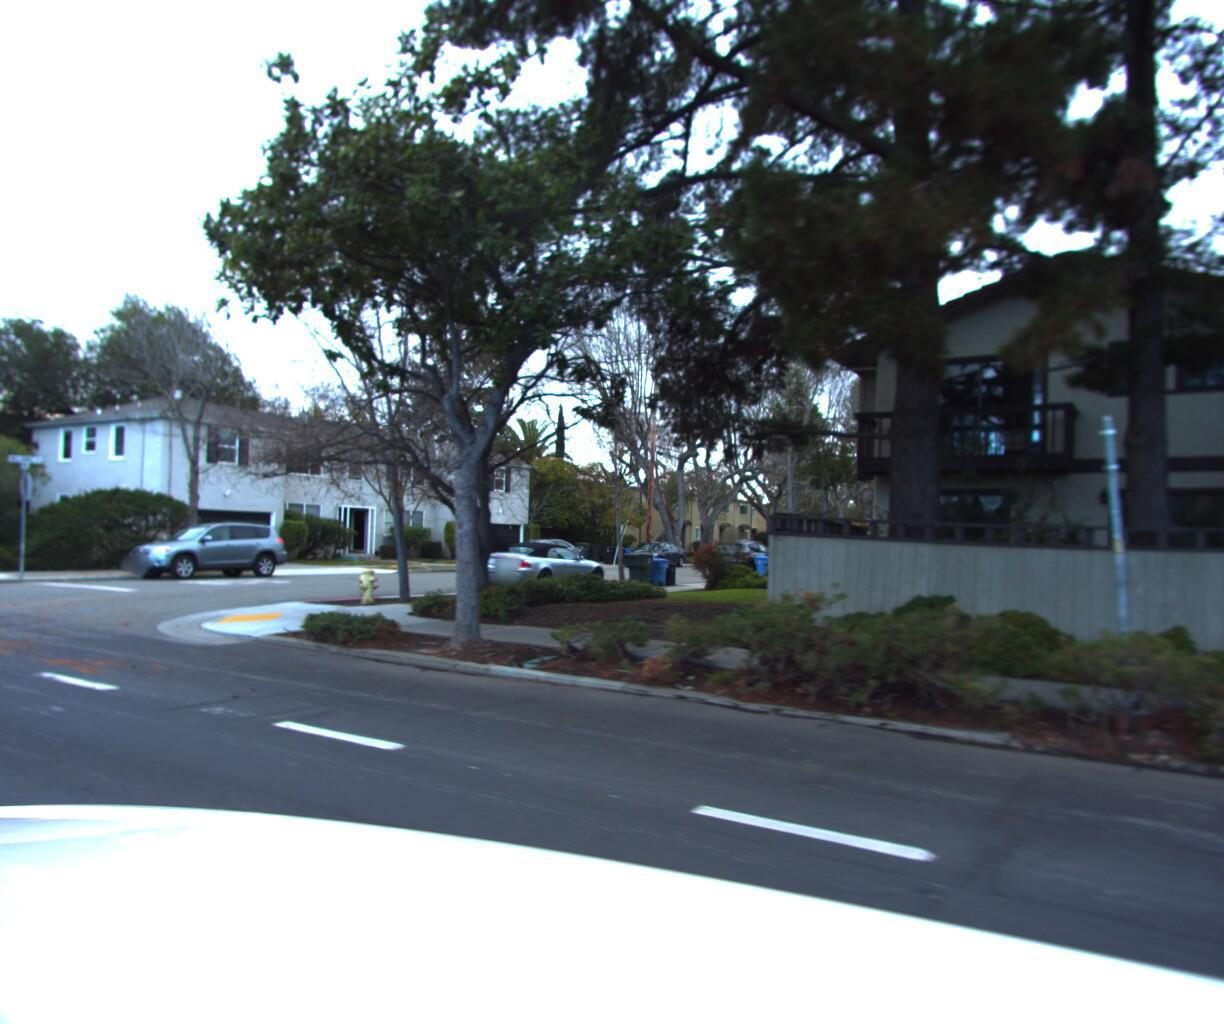car: (114, 519, 295, 584), (465, 537, 612, 594), (703, 534, 792, 578), (490, 534, 587, 574), (625, 541, 689, 569)
